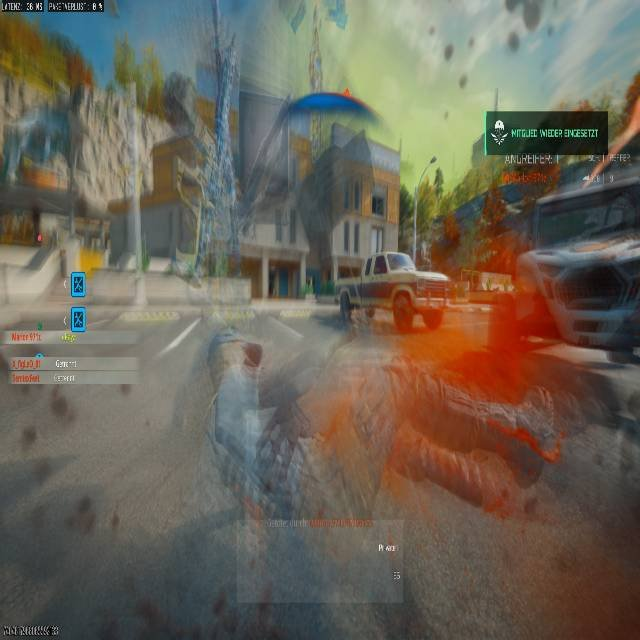head: (241, 342, 263, 368)
